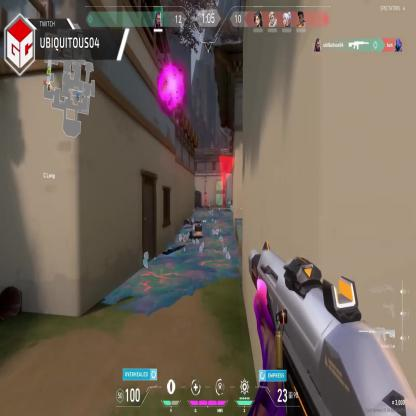enemy: (222, 192, 226, 208), (204, 193, 207, 207)
enemy_head: (223, 192, 225, 196), (204, 192, 206, 196)
